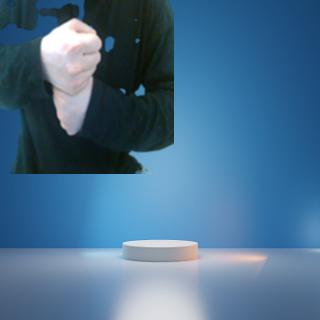CAREFUL: (40, 14, 103, 142)
